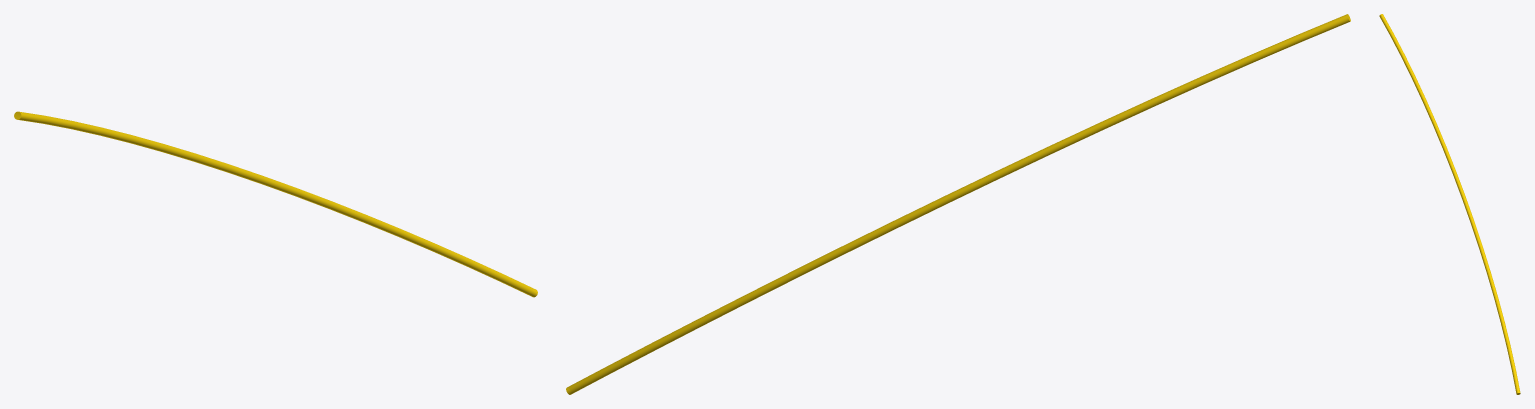
Rendered from Event_421115418_track_51.fbx.
3 views of the same model, side by side, from view 1: azimuth 30°, elevation 25°; view 2: azimuth 150°, elevation 25°; view 3: azimuth 270°, elevation 25° (orthographic). The views are drawn at different scales.
Parts seen in each view (by area): view 1: Model; view 2: Model; view 3: Model.
Boxes of the visible parts, bbox=[...] form: Model: bbox=[14, 111, 537, 297]; Model: bbox=[566, 14, 1350, 394]; Model: bbox=[1379, 14, 1520, 394].
Size of the model in its own units: 3.65 by 2.35 by 1.36.
